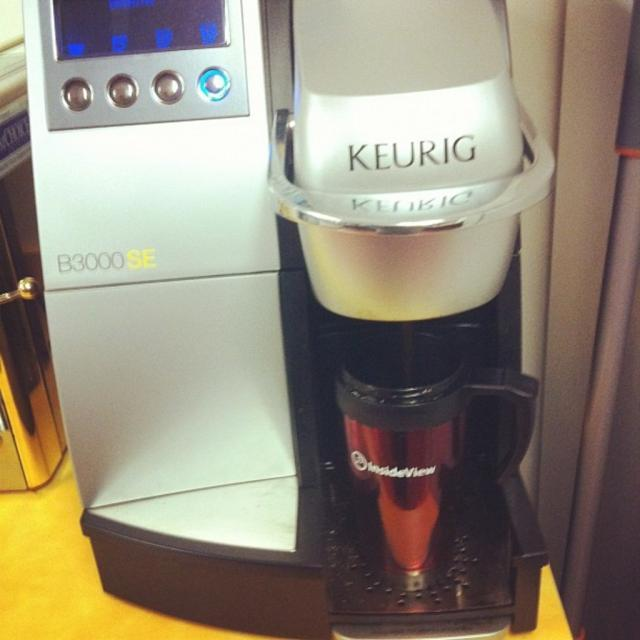Coffee-Machine: (16, 0, 572, 638)
